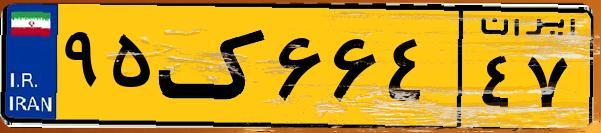4: (385, 28, 445, 110), (475, 38, 525, 113)
5: (110, 28, 158, 98)
6: (270, 28, 330, 110), (330, 28, 385, 110)
7: (525, 38, 570, 115)
9: (57, 26, 110, 100)
ک: (158, 12, 270, 120)
